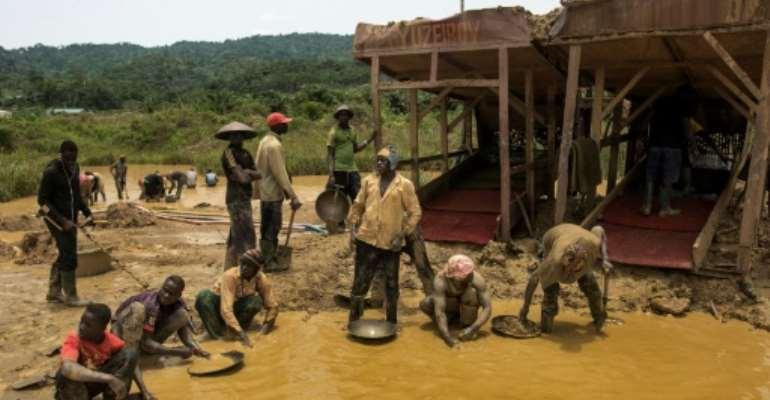MiningTool: (279, 198, 303, 271), (489, 312, 544, 343), (345, 316, 400, 346), (189, 348, 246, 376), (313, 188, 353, 226), (74, 246, 118, 277), (213, 117, 263, 141)
Person: (345, 145, 423, 328), (36, 137, 96, 309), (521, 224, 607, 334), (55, 303, 146, 397), (111, 275, 209, 362), (197, 248, 281, 345), (321, 102, 375, 235), (418, 252, 494, 346), (257, 113, 300, 274), (218, 133, 263, 272), (641, 84, 684, 219), (84, 165, 110, 202), (73, 170, 96, 207), (112, 155, 130, 200), (160, 166, 186, 196), (136, 174, 166, 199), (183, 165, 199, 187), (203, 168, 218, 189)
ProcessingEquipment: (550, 1, 770, 279), (347, 1, 580, 249)
